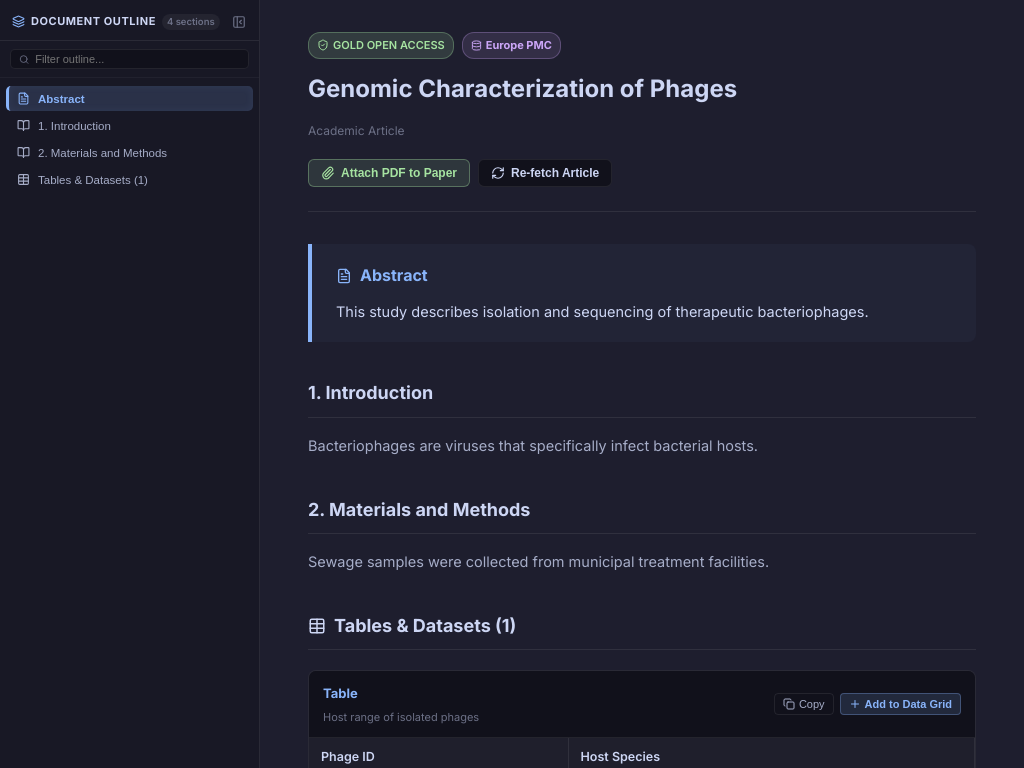
ArticleReaderView & CentralViewerPanel Merged Section Toolbar › supports collapsing outline and expanding via floating button
// Collapse outline
What coordinates should you click on to do the following:
click the button titled "Collapse Document Outline"
I would click on:
 (239, 22)
Its box is [229,12,249,32].
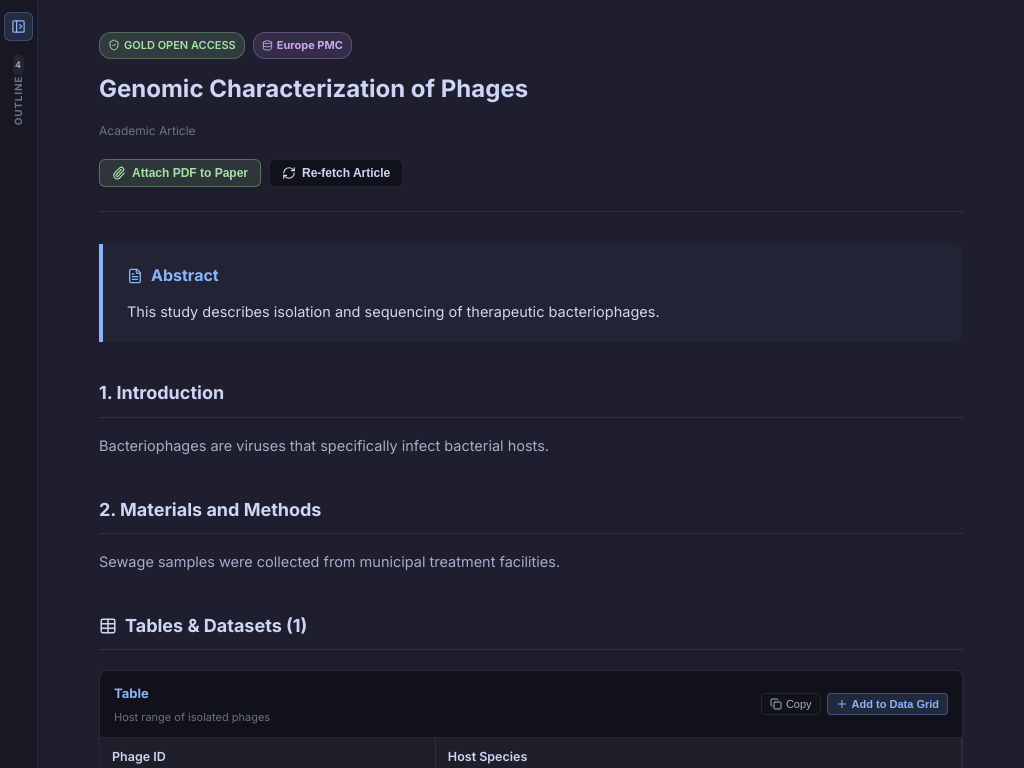
Expected: the field with placeholder "Filter outline..." is not shown
Now the button titled "Expand Document Outline" is shown
// Click expand button to restore outline
What coordinates should you click on to do the following:
click the button titled "Expand Document Outline"
I would click on:
 (18, 26)
Its box is [4,12,33,41].
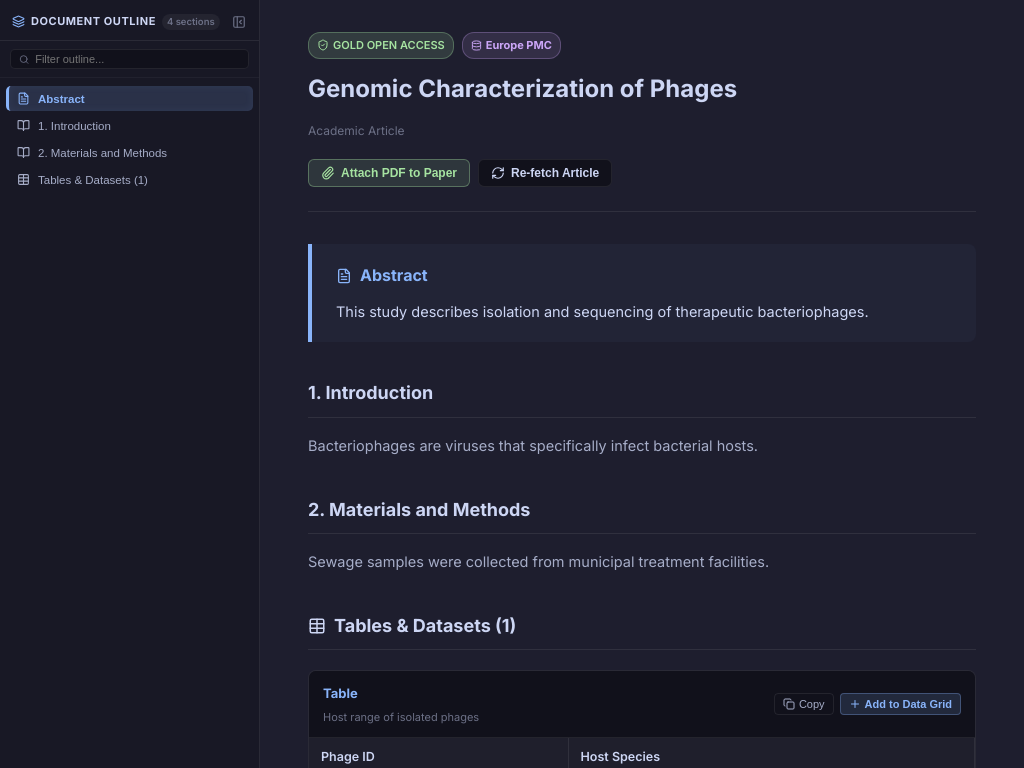
Now the field with placeholder "Filter outline..." is shown, box [35,53,240,65]
